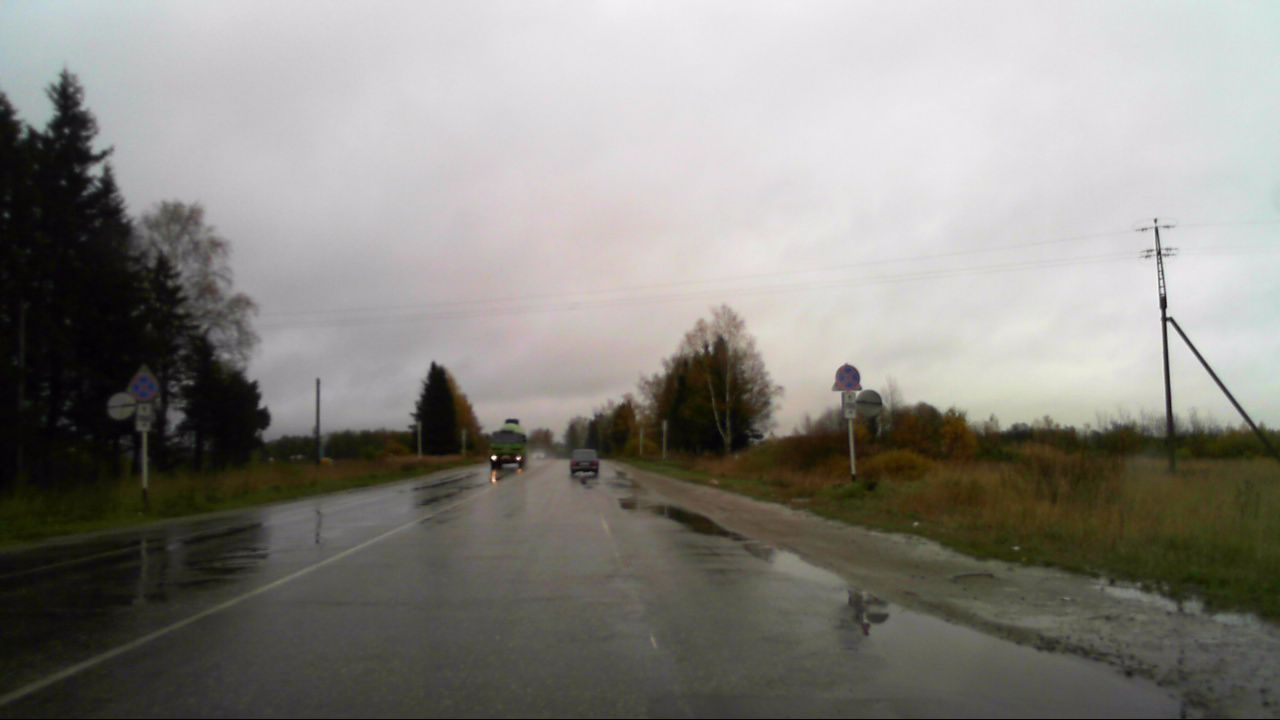No Parking: (128, 371, 156, 403)
